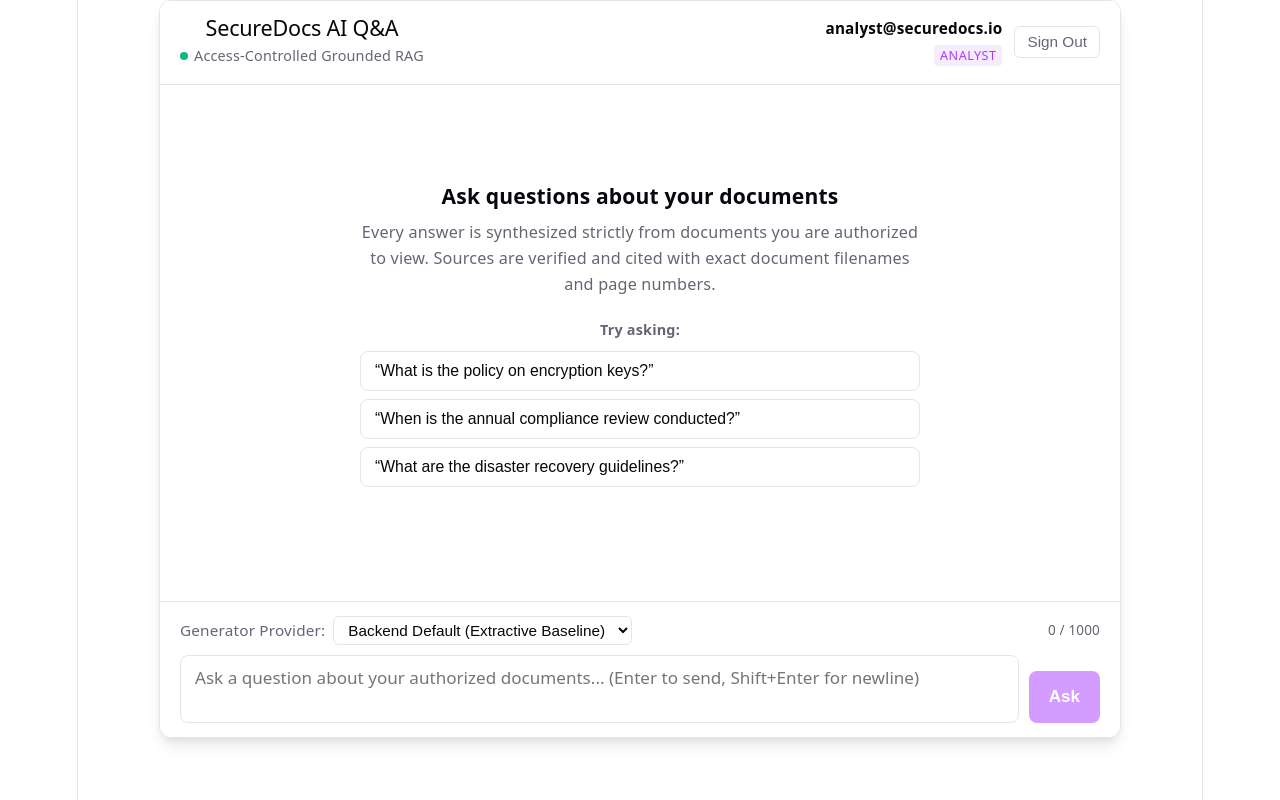
QAChat Component › renders insufficient evidence banner when backend declares insufficient evidence
Step 1. Replace the text in the text box with test id "question-input" with "What is the Martian policy?" → x=599, y=689, box [180,655,1019,723]
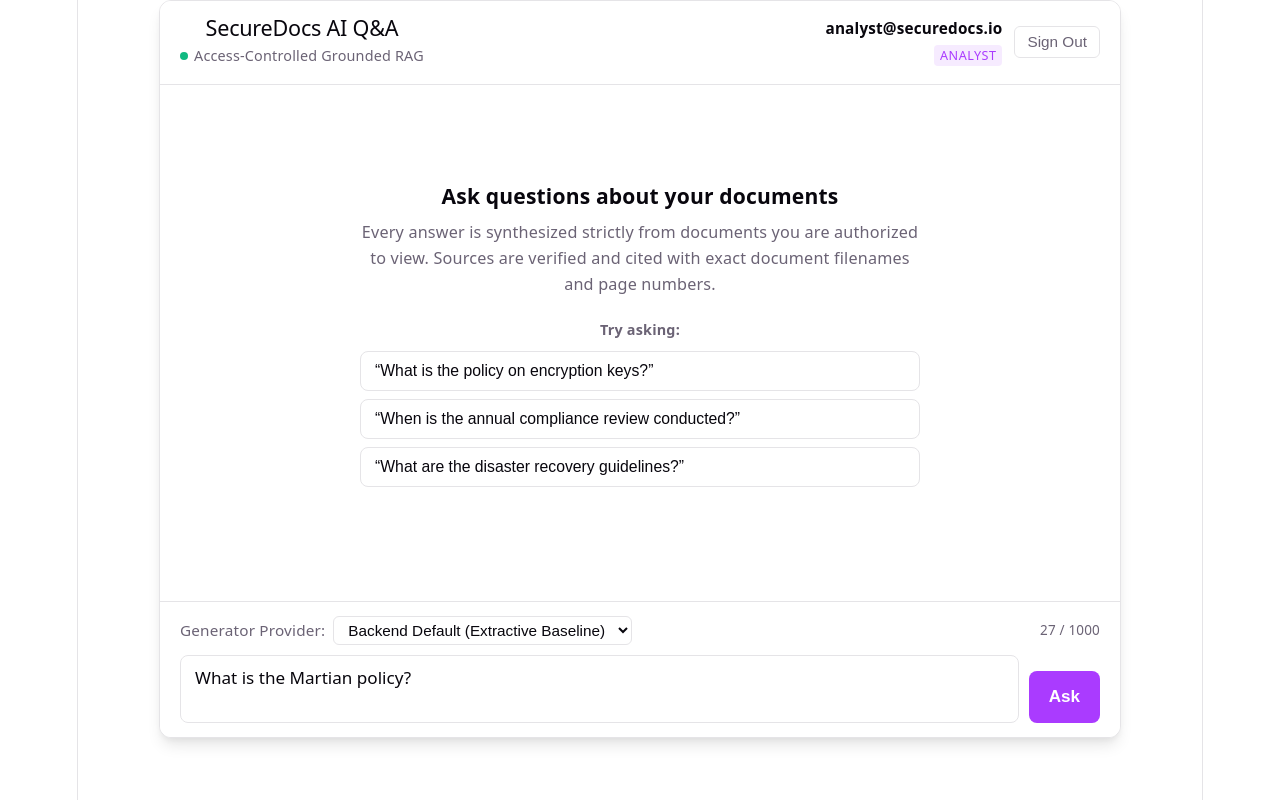
Step 2. Click the button with test id "submit-question-button" → x=1064, y=697, box [1029,671,1100,723]
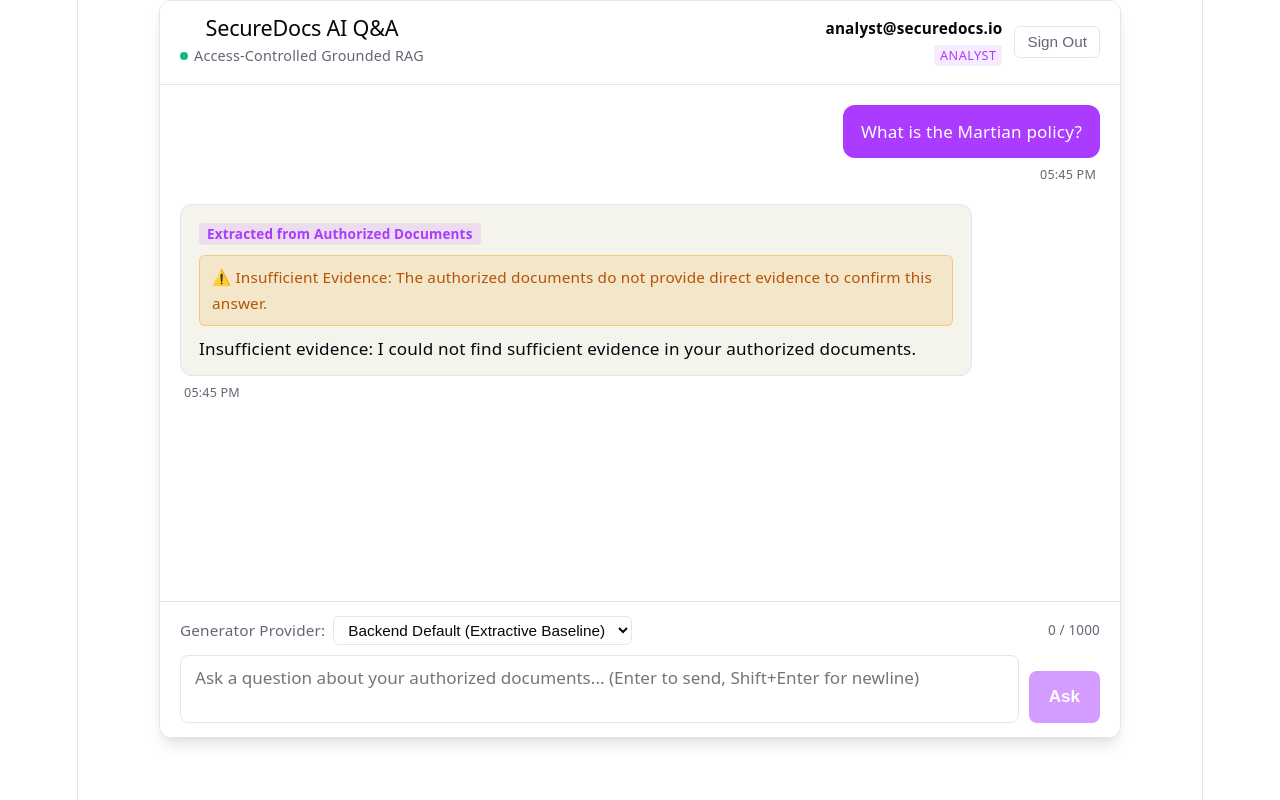
Expected: the text with test id "insufficient-evidence-banner" is shown, [199,255,953,326]
Expected: the text "The authorized documents do not provide direct evidence" is shown, [212,267,932,314]
